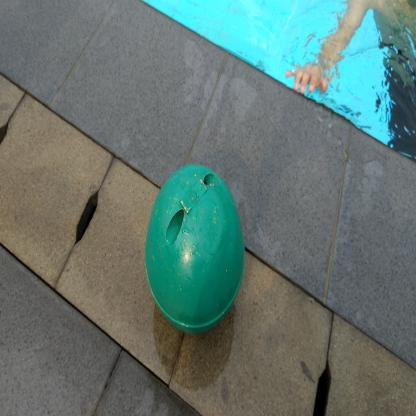green_buoy: (141, 160, 249, 341)
